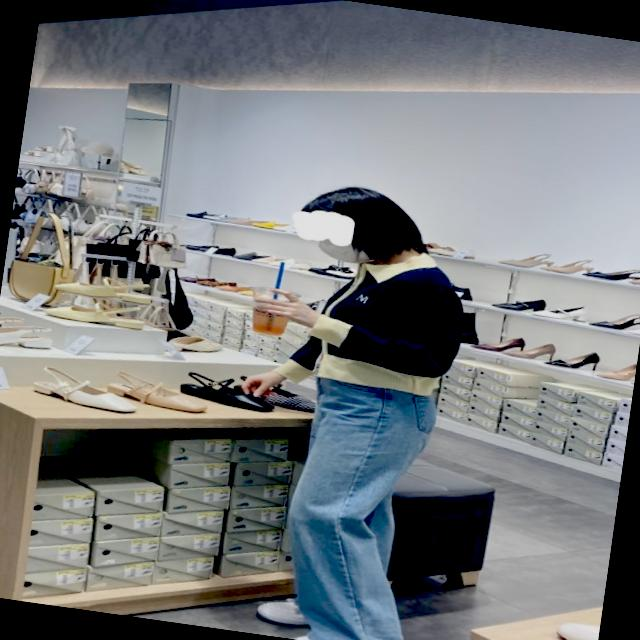cardigan: (272, 238, 473, 411)
denimpants: (266, 367, 442, 640)
